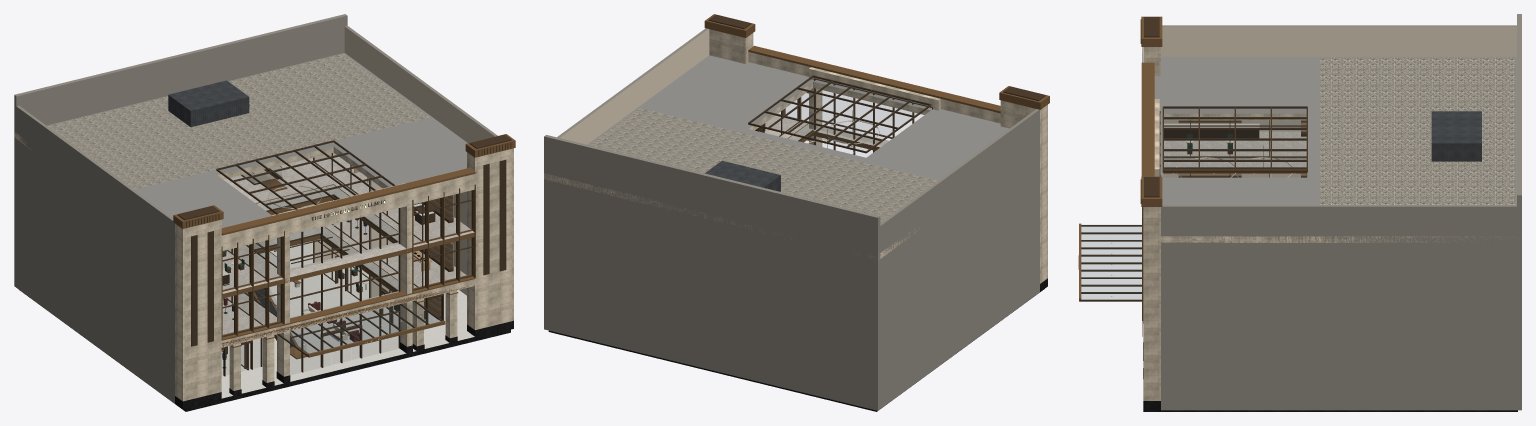
File: the_promenade_galleria_LOD1.fbx
The picture shows the model from 3 angles, left to right: view 1: azimuth 30°, elevation 25°; view 2: azimuth 150°, elevation 25°; view 3: azimuth 270°, elevation 25°; orthographic projection. The views are drawn at different scales.
Visible parts, largest first — view 1: B05_LOD1_BUILDING_EXTERIOR_Stone, B05_LOD1_BUILDING_EXTERIOR_Roof, B05_LOD1_BUILDING_EXTERIOR_RearInterface, B05_LOD1_BUILDING_INTERIOR_GroundSlab, B05_LOD1_BUILDING_INTERIOR_L2Slab, B05_LOD1_BUILDING_INTERIOR_L1Slab, B05_LOD1_FACADE_DETAILS_Bronze, B05_LOD1_FACADE_DETAILS_Canopy, B05_LOD1_GLASS_SYSTEM_TowerSlots, B05_LOD1_GLASS_SYSTEM_PortalFrame, B05_LOD1_GLASS_SYSTEM_Skylight, B05_LOD1_GLASS_SYSTEM_Upper-13Frame (+6 smaller); view 2: B05_LOD1_BUILDING_EXTERIOR_Stone, B05_LOD1_BUILDING_EXTERIOR_Roof, B05_LOD1_BUILDING_EXTERIOR_RearInterface, B05_LOD1_FACADE_DETAILS_Bronze, B05_LOD1_GLASS_SYSTEM_Skylight, B05_LOD1_BUILDING_INTERIOR_L2Slab, B05_LOD1_GLASS_SYSTEM_PortalFrame, B05_LOD1_BUILDING_INTERIOR_GroundSlab; view 3: B05_LOD1_BUILDING_EXTERIOR_Stone, B05_LOD1_BUILDING_EXTERIOR_Roof, B05_LOD1_FACADE_DETAILS_Canopy, B05_LOD1_BUILDING_INTERIOR_L2Slab, B05_LOD1_GLASS_SYSTEM_Skylight, B05_LOD1_FACADE_DETAILS_Bronze, B05_LOD1_FURNITURE_Shops, B05_LOD1_BUILDING_EXTERIOR_RearInterface, B05_LOD1_BUILDING_INTERIOR_GroundSlab, B05_LOD1_DISPLAY_OBJECTS_Merch, B05_LOD1_BUILDING_INTERIOR_ShopFront2-10Frame, B05_LOD1_BUILDING_INTERIOR_VoidRail2Frame.
Part boxes in pixels (<box>): B05_LOD1_BUILDING_EXTERIOR_Stone: <box>14,25,513,409</box>; B05_LOD1_BUILDING_EXTERIOR_Roof: <box>14,53,513,260</box>; B05_LOD1_BUILDING_EXTERIOR_RearInterface: <box>14,14,347,286</box>; B05_LOD1_BUILDING_INTERIOR_GroundSlab: <box>19,241,510,411</box>; B05_LOD1_BUILDING_INTERIOR_L2Slab: <box>222,157,474,298</box>; B05_LOD1_BUILDING_INTERIOR_L1Slab: <box>221,205,474,346</box>; B05_LOD1_FACADE_DETAILS_Bronze: <box>173,134,515,340</box>; B05_LOD1_FACADE_DETAILS_Canopy: <box>277,300,445,357</box>; B05_LOD1_GLASS_SYSTEM_TowerSlots: <box>191,159,506,346</box>; B05_LOD1_GLASS_SYSTEM_PortalFrame: <box>290,208,400,372</box>; B05_LOD1_GLASS_SYSTEM_Skylight: <box>216,140,395,214</box>; B05_LOD1_GLASS_SYSTEM_Upper-13Frame: <box>221,231,284,339</box>; B05_LOD1_BUILDING_EXTERIOR_Stone: <box>544,28,1047,410</box>; B05_LOD1_BUILDING_EXTERIOR_Roof: <box>544,55,1009,260</box>; B05_LOD1_BUILDING_EXTERIOR_RearInterface: <box>544,135,880,410</box>; B05_LOD1_FACADE_DETAILS_Bronze: <box>704,14,1049,113</box>; B05_LOD1_GLASS_SYSTEM_Skylight: <box>748,75,931,153</box>; B05_LOD1_BUILDING_INTERIOR_L2Slab: <box>764,113,888,150</box>; B05_LOD1_GLASS_SYSTEM_PortalFrame: <box>814,78,932,154</box>; B05_LOD1_BUILDING_INTERIOR_GroundSlab: <box>548,289,1043,411</box>; B05_LOD1_BUILDING_EXTERIOR_Stone: <box>1143,25,1521,410</box>; B05_LOD1_BUILDING_EXTERIOR_Roof: <box>1143,56,1520,242</box>; B05_LOD1_FACADE_DETAILS_Canopy: <box>1079,223,1141,301</box>; B05_LOD1_BUILDING_INTERIOR_L2Slab: <box>1163,131,1306,173</box>; B05_LOD1_GLASS_SYSTEM_Skylight: <box>1162,106,1307,172</box>; B05_LOD1_FACADE_DETAILS_Bronze: <box>1140,16,1162,321</box>; B05_LOD1_FURNITURE_Shops: <box>1164,123,1259,154</box>; B05_LOD1_BUILDING_EXTERIOR_RearInterface: <box>1517,14,1521,340</box>; B05_LOD1_BUILDING_INTERIOR_GroundSlab: <box>1143,410,1517,411</box>; B05_LOD1_DISPLAY_OBJECTS_Merch: <box>1178,120,1306,177</box>; B05_LOD1_BUILDING_INTERIOR_ShopFront2-10Frame: <box>1164,120,1269,158</box>; B05_LOD1_BUILDING_INTERIOR_VoidRail2Frame: <box>1164,156,1307,177</box>.
Size of the model in its own units: 34.2 by 35.16 by 19.08.
